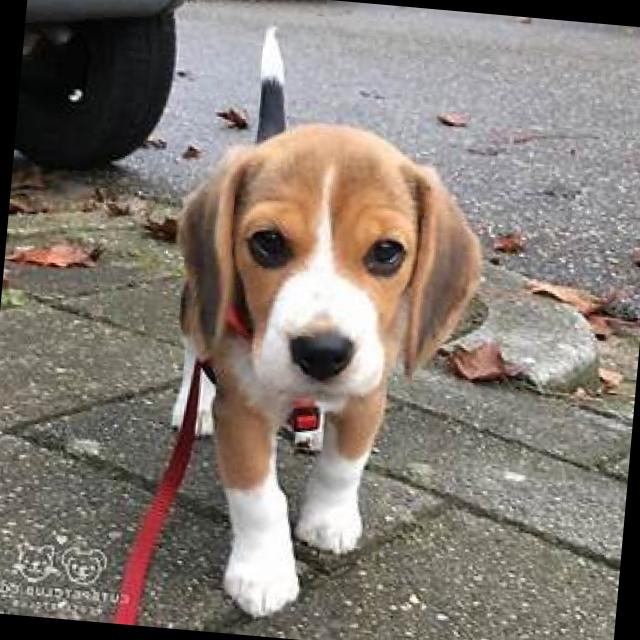animal: (101, 45, 512, 640)
